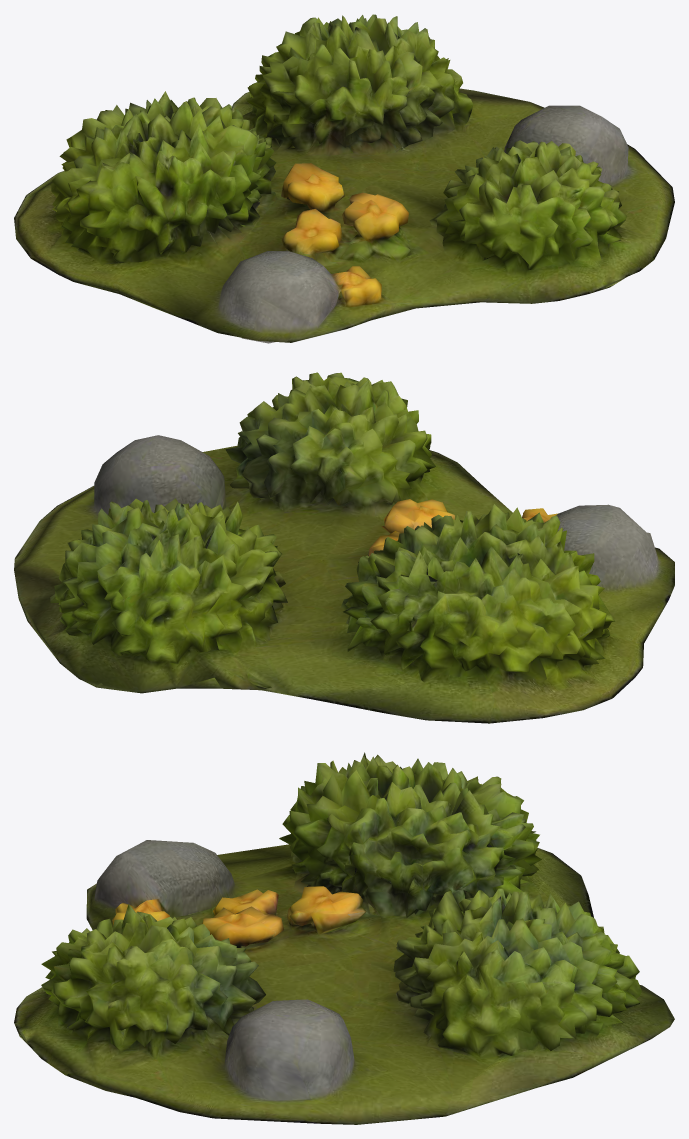
File: cluster-shrub.glb
3 views of the same model, one above another, from view 1: azimuth 30°, elevation 25°; view 2: azimuth 150°, elevation 25°; view 3: azimuth 270°, elevation 25° (orthographic). The views are drawn at different scales.
Parts seen in each view (by area): view 1: Mesh_0; view 2: Mesh_0; view 3: Mesh_0.
Part boxes in pixels (<box>): Mesh_0: <box>14,14,674,343</box>; Mesh_0: <box>14,372,674,723</box>; Mesh_0: <box>14,752,674,1124</box>.
Size of the model in its own units: 2 by 0.533 by 1.86.
1 material, 1 textured.
